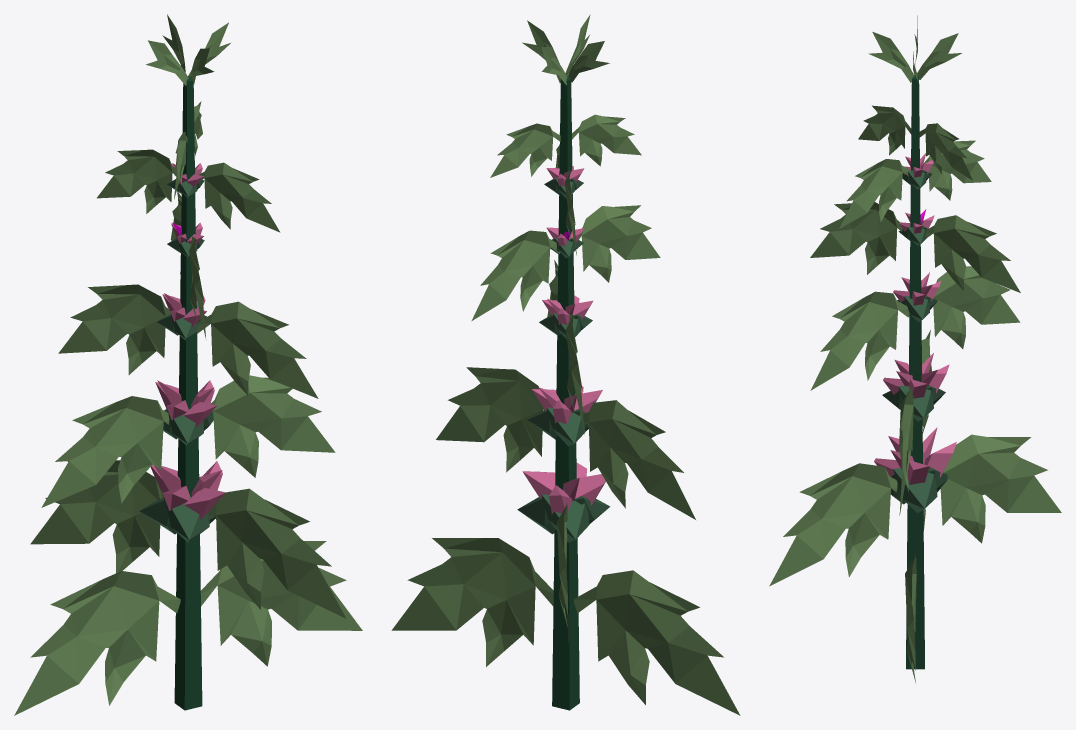
Rendered from Motherwort.fbx.
3 renders of one model, left to right at view 1: azimuth 30°, elevation 25°; view 2: azimuth 150°, elevation 25°; view 3: azimuth 270°, elevation 25°, orthographic. The views are drawn at different scales.
Visible parts, largest first — view 1: Motherwort_LOD0; view 2: Motherwort_LOD0; view 3: Motherwort_LOD0.
Part boxes in pixels (box(x1,y1,x2,y2)): Motherwort_LOD0: box(14, 14, 362, 715); Motherwort_LOD0: box(391, 14, 740, 715); Motherwort_LOD0: box(769, 15, 1061, 682).
Size of what is drawn, in the model's own units: 105 by 194 by 81.13.
